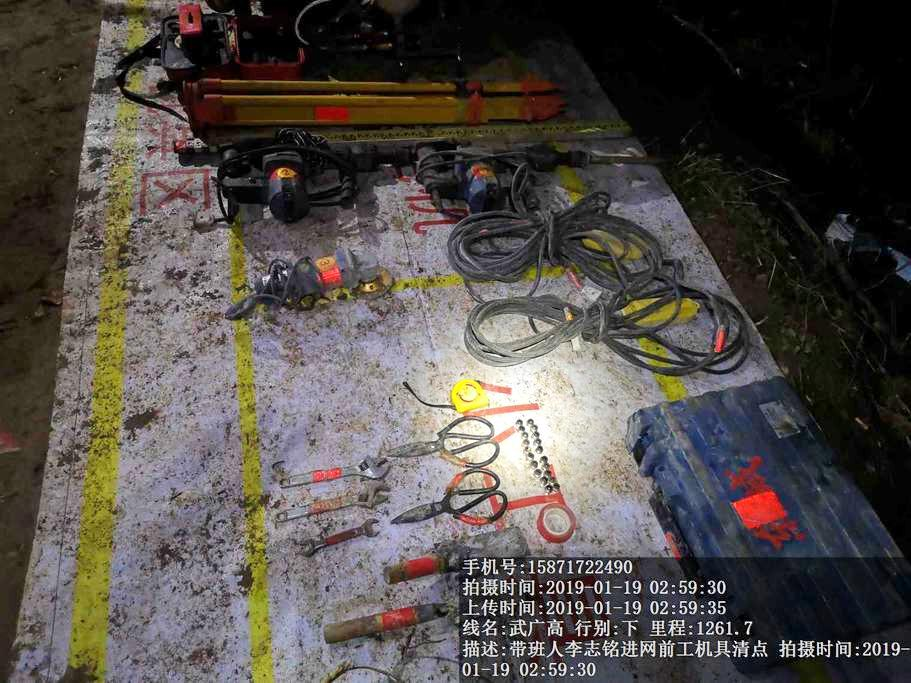DMJ: (232, 254, 404, 316)
DX: (457, 281, 754, 384), (441, 203, 676, 281)
DZ: (239, 140, 378, 224), (412, 134, 587, 199)
